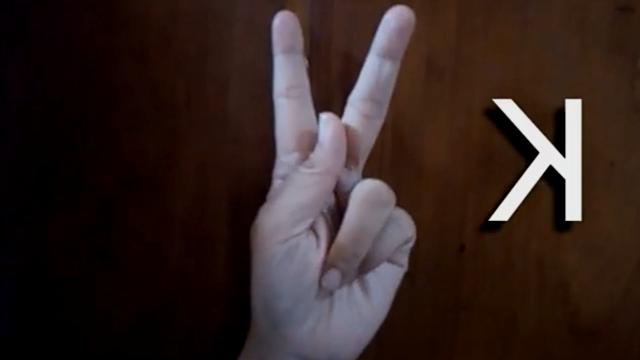K: (234, 0, 426, 360)
